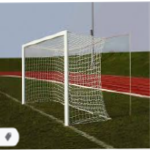goals: (20, 28, 110, 126)
